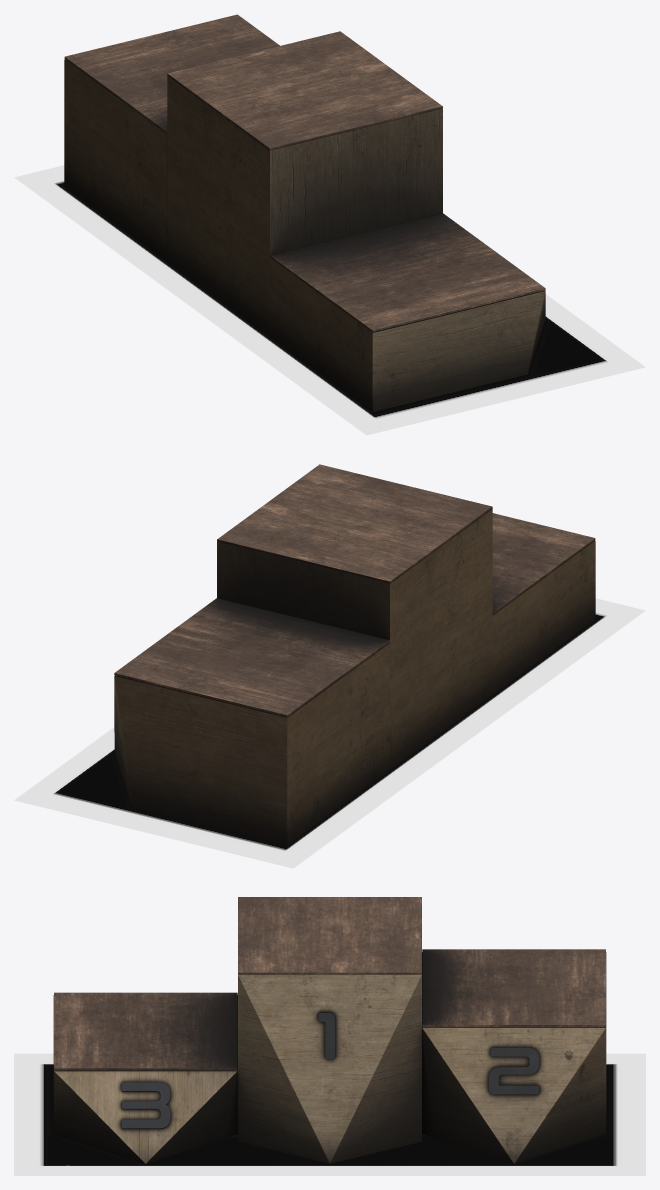
File: podium.fbx
3 renders of one model, top to bottom at view 1: azimuth 30°, elevation 25°; view 2: azimuth 150°, elevation 25°; view 3: azimuth 270°, elevation 25°, orthographic. The views are drawn at different scales.
Parts seen in each view (by area): view 1: Material0-material, Material1-material, Material2-material; view 2: Material0-material, Material1-material, Material2-material; view 3: Material0-material, Material1-material, Material2-material, Material3-material.
Boxes of the visible parts, <box> form: Material0-material: <box>64,59,545,411</box>; Material1-material: <box>64,14,545,332</box>; Material2-material: <box>14,165,645,435</box>; Material0-material: <box>114,509,595,845</box>; Material1-material: <box>114,464,595,717</box>; Material2-material: <box>14,598,645,868</box>; Material0-material: <box>53,952,606,1163</box>; Material1-material: <box>54,897,605,1070</box>; Material2-material: <box>14,1053,645,1175</box>; Material3-material: <box>121,1012,539,1128</box>.
Size of the model in its own units: 1.58 by 1.02 by 3.45.
4 materials, 4 textured.
